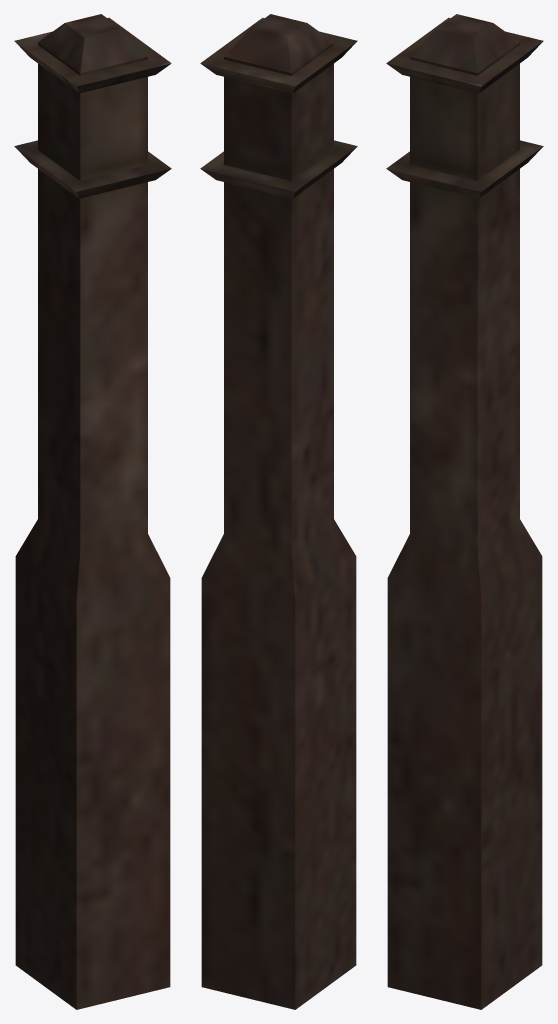
The model's file is RailingBlock_S.FBX.
3 views of the same model, side by side, from view 1: azimuth 30°, elevation 25°; view 2: azimuth 150°, elevation 25°; view 3: azimuth 330°, elevation 25° (orthographic).
Parts seen in each view (by area): view 1: RailingBlock_S; view 2: RailingBlock_S; view 3: RailingBlock_S.
Boxes of the visible parts, x1=… form: RailingBlock_S: x1=14, y1=14, x2=171, y2=1009; RailingBlock_S: x1=200, y1=14, x2=357, y2=1009; RailingBlock_S: x1=386, y1=14, x2=543, y2=1009.
Bounding box in the file's own units: 9.62 × 91.83 × 10.95.
